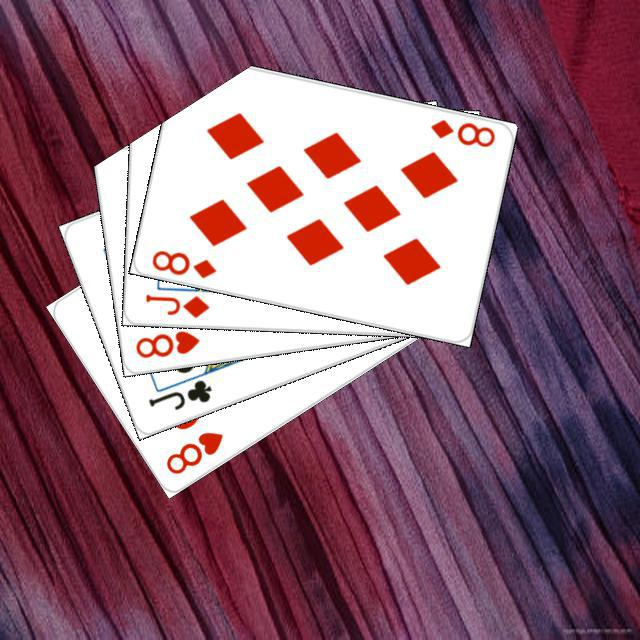8d: (147, 245, 218, 280), (426, 114, 497, 149)
8h: (160, 426, 225, 476), (130, 325, 201, 360)
Jc: (143, 374, 214, 412)
Jd: (140, 289, 211, 320)
